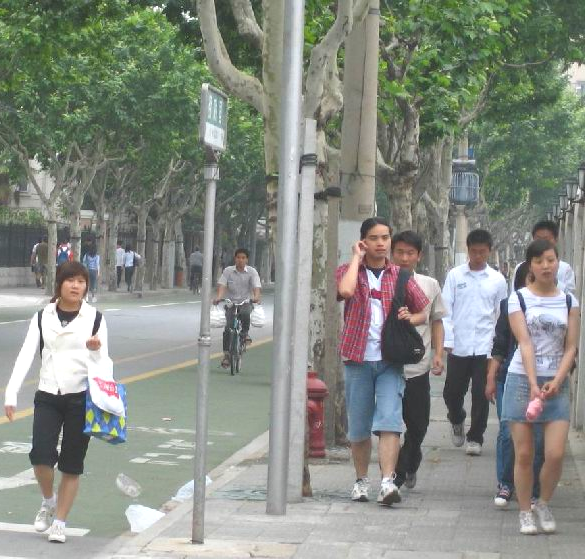pedestrian: (5, 262, 126, 544), (334, 218, 428, 507), (501, 241, 580, 535), (441, 230, 507, 455)
